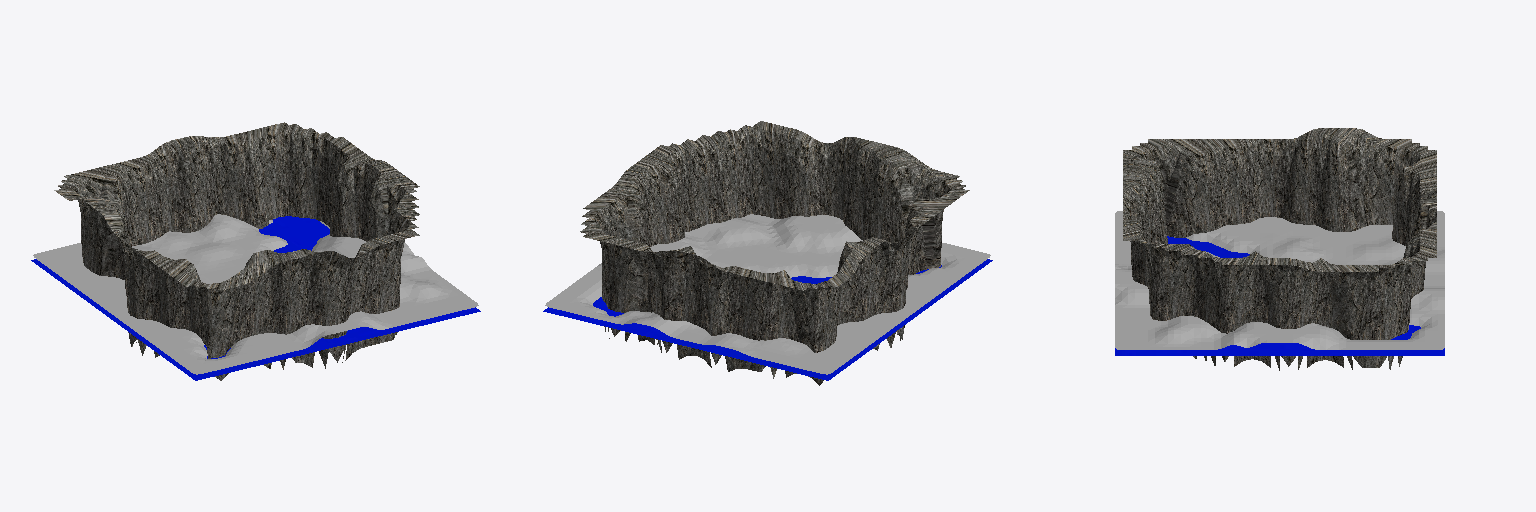
The picture shows the model from 3 angles: view 1: azimuth 30°, elevation 25°; view 2: azimuth 150°, elevation 25°; view 3: azimuth 270°, elevation 25°; orthographic projection.
Visible parts, largest first — view 1: Plane, Plane1, Plane2; view 2: Plane, Plane1, Plane2; view 3: Plane, Plane1, Plane2.
Boxes of the visible parts, box(x1,y1,x2,y2) form: Plane: box(54, 122, 419, 380); Plane1: box(33, 214, 478, 374); Plane2: box(31, 216, 480, 380); Plane: box(580, 121, 969, 385); Plane1: box(545, 214, 990, 374); Plane2: box(543, 259, 992, 380); Plane: box(1123, 128, 1436, 370); Plane1: box(1115, 211, 1444, 349); Plane2: box(1115, 236, 1444, 355).
Size of the model in its own units: 80 by 34.16 by 80.
3 materials, 2 textured.